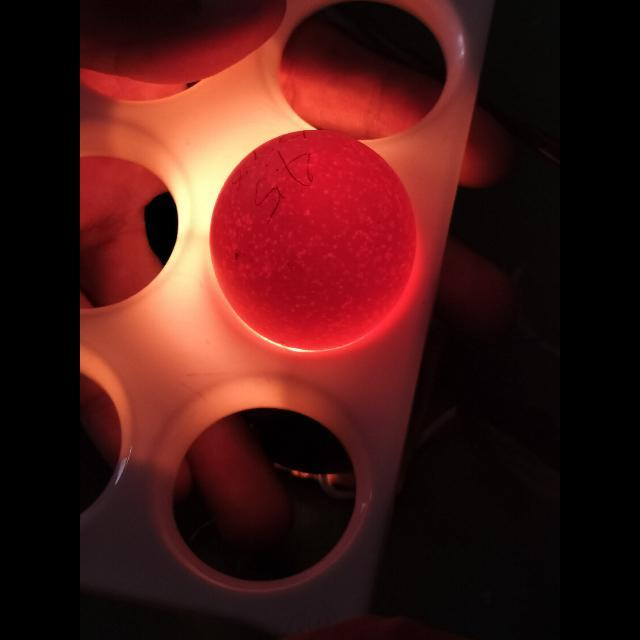Infertile: (218, 127, 424, 351)
